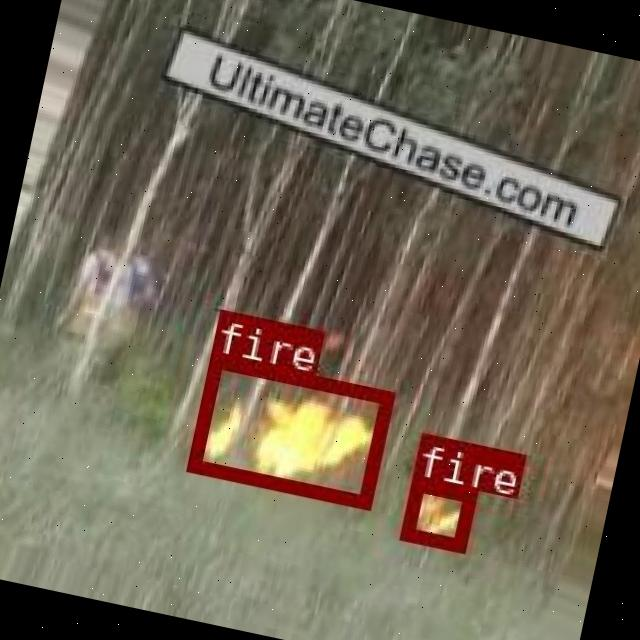fire: (184, 350, 392, 506), (398, 474, 476, 550)
